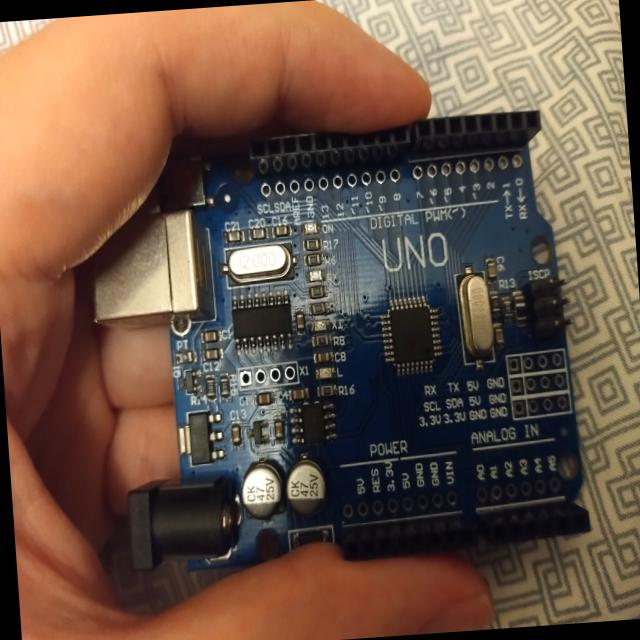arduino: (65, 100, 604, 582)
